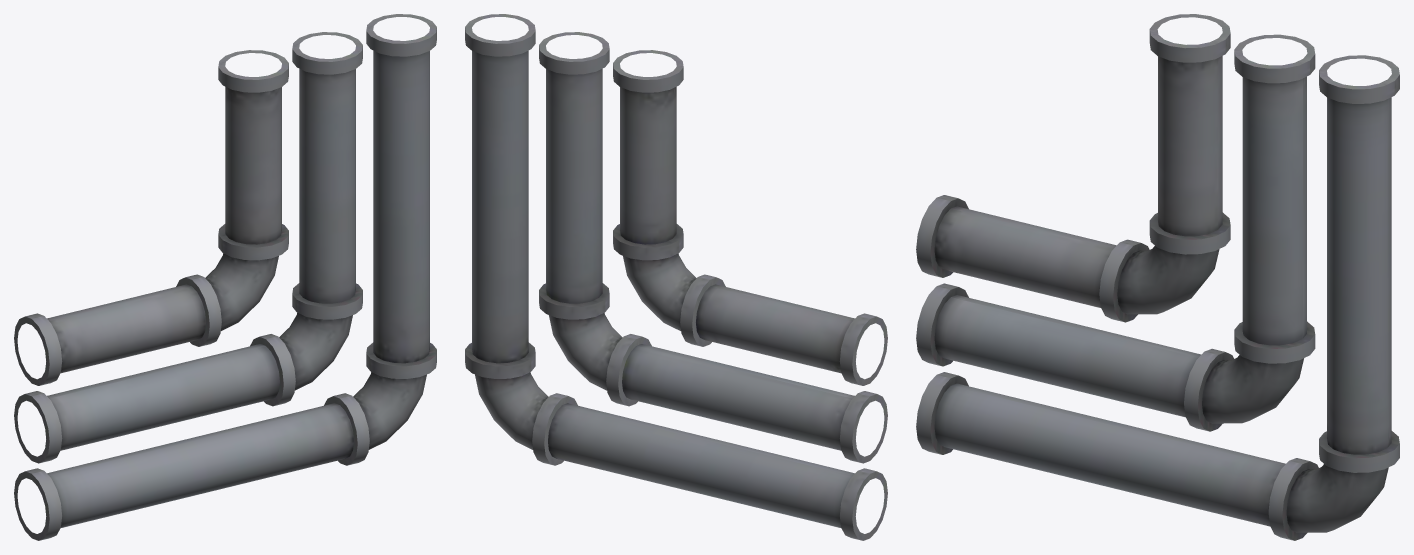
The picture shows the model from 3 angles, left to right: view 1: azimuth 30°, elevation 25°; view 2: azimuth 150°, elevation 25°; view 3: azimuth 330°, elevation 25°; orthographic projection. The views are drawn at different scales.
Visible parts, largest first — view 1: body0_model0_lod0_mesh0; view 2: body0_model0_lod0_mesh0; view 3: body0_model0_lod0_mesh0.
Part boxes in pixels (<box>): body0_model0_lod0_mesh0: <box>14,14,436,540</box>; body0_model0_lod0_mesh0: <box>465,14,887,540</box>; body0_model0_lod0_mesh0: <box>916,14,1399,540</box>.
Size of the model in its own units: 64.99 by 64.99 by 10.02.
Materials: 1 (1 with a texture image).
